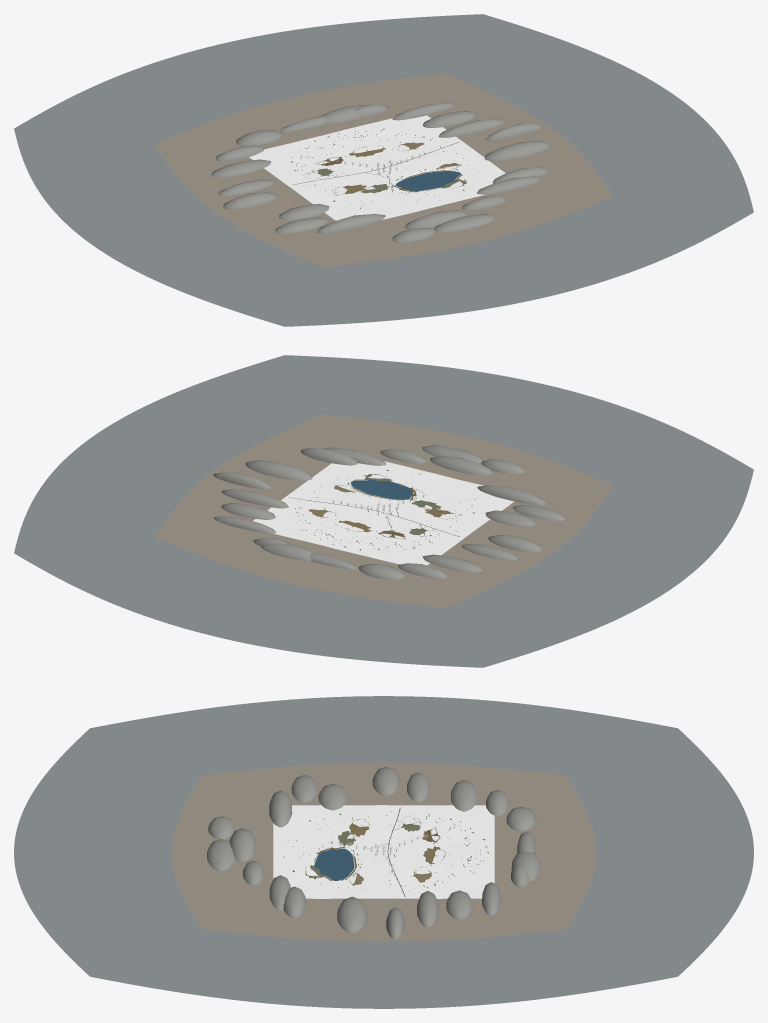
File: ugmrt-facility-web-v1.glb
3 renders of one model, top to bottom at view 1: azimuth 30°, elevation 25°; view 2: azimuth 150°, elevation 25°; view 3: azimuth 270°, elevation 25°, orthographic. The views are drawn at different scales.
Visible parts, largest first — view 1: UGMRT_Horizon_Band_Far, UGMRT_Horizon_Band_Near, UGMRT_Open_Field_Terrain, UGMRT_Lake, UGMRT_Distant_Hill_21, UGMRT_Distant_Hill_14, UGMRT_Distant_Hill_17, UGMRT_Distant_Hill_01, UGMRT_Distant_Hill_16, UGMRT_Distant_Hill_09, UGMRT_Distant_Hill_11, UGMRT_Distant_Hill_19 (+7 smaller); view 2: UGMRT_Horizon_Band_Far, UGMRT_Horizon_Band_Near, UGMRT_Open_Field_Terrain, UGMRT_Lake, UGMRT_Distant_Hill_21, UGMRT_Distant_Hill_16, UGMRT_Distant_Hill_14, UGMRT_Distant_Hill_01, UGMRT_Distant_Hill_09, UGMRT_Distant_Hill_11, UGMRT_Distant_Hill_05, UGMRT_Distant_Hill_20 (+8 smaller); view 3: UGMRT_Horizon_Band_Far, UGMRT_Horizon_Band_Near, UGMRT_Open_Field_Terrain, UGMRT_Lake, UGMRT_Distant_Hill_21, UGMRT_Distant_Hill_17, UGMRT_Distant_Hill_16, UGMRT_Distant_Hill_09, UGMRT_Distant_Hill_14, UGMRT_Distant_Hill_01, UGMRT_Distant_Hill_11, UGMRT_Distant_Hill_02 (+7 smaller).
Part boxes in pixels (<box>): UGMRT_Horizon_Band_Far: <box>14,14,753,326</box>; UGMRT_Horizon_Band_Near: <box>155,73,612,267</box>; UGMRT_Open_Field_Terrain: <box>249,115,505,220</box>; UGMRT_Lake: <box>396,171,460,190</box>; UGMRT_Distant_Hill_21: <box>484,140,551,161</box>; UGMRT_Distant_Hill_14: <box>317,214,385,233</box>; UGMRT_Distant_Hill_17: <box>434,213,495,232</box>; UGMRT_Distant_Hill_01: <box>438,118,505,137</box>; UGMRT_Distant_Hill_16: <box>405,210,468,229</box>; UGMRT_Distant_Hill_09: <box>211,159,270,177</box>; UGMRT_Distant_Hill_11: <box>223,192,277,209</box>; UGMRT_Distant_Hill_19: <box>477,176,541,194</box>; UGMRT_Horizon_Band_Far: <box>14,355,753,667</box>; UGMRT_Horizon_Band_Near: <box>155,414,613,608</box>; UGMRT_Open_Field_Terrain: <box>253,461,514,565</box>; UGMRT_Lake: <box>351,480,413,499</box>; UGMRT_Distant_Hill_21: <box>245,460,312,480</box>; UGMRT_Distant_Hill_16: <box>430,456,492,475</box>; UGMRT_Distant_Hill_14: <box>477,485,546,505</box>; UGMRT_Distant_Hill_01: <box>221,489,288,508</box>; UGMRT_Distant_Hill_09: <box>423,554,482,572</box>; UGMRT_Distant_Hill_11: <box>488,535,542,552</box>; UGMRT_Distant_Hill_05: <box>260,543,316,561</box>; UGMRT_Distant_Hill_20: <box>300,448,357,465</box>; UGMRT_Horizon_Band_Far: <box>14,696,753,1008</box>; UGMRT_Horizon_Band_Near: <box>172,762,595,941</box>; UGMRT_Open_Field_Terrain: <box>273,805,494,898</box>; UGMRT_Lake: <box>314,848,354,880</box>; UGMRT_Distant_Hill_21: <box>337,896,367,932</box>; UGMRT_Distant_Hill_17: <box>207,839,235,871</box>; UGMRT_Distant_Hill_16: <box>229,828,256,861</box>; UGMRT_Distant_Hill_09: <box>450,780,477,811</box>; UGMRT_Distant_Hill_14: <box>269,790,292,827</box>; UGMRT_Distant_Hill_01: <box>417,891,438,927</box>; UGMRT_Distant_Hill_11: <box>372,766,399,795</box>; UGMRT_Distant_Hill_02: <box>446,890,472,919</box>.
Size of the model in its own units: 6560 by 224 by 6560.
